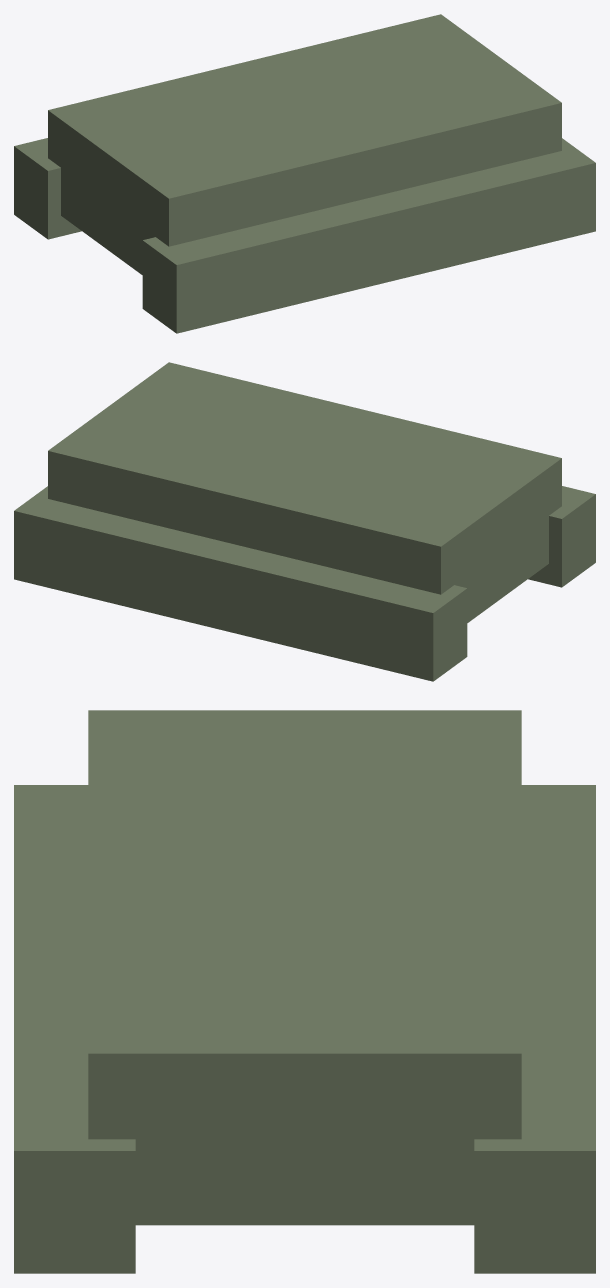
File: tank.glb
3 views of the same model, one above another, from view 1: azimuth 30°, elevation 25°; view 2: azimuth 150°, elevation 25°; view 3: azimuth 270°, elevation 25° (orthographic). The views are drawn at different scales.
Parts seen in each view (by area): view 1: tank; view 2: tank; view 3: tank.
Part boxes in pixels (x1=…): tank: x1=14, y1=14, x2=595, y2=333; tank: x1=14, y1=362, x2=595, y2=681; tank: x1=14, y1=710, x2=595, y2=1273.
Bounding box in the file's own units: 3.2 × 0.85 × 2.15.
